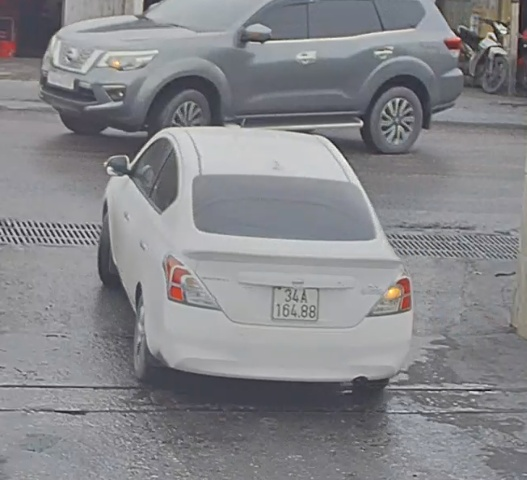vehicle plate: (271, 283, 322, 320)
